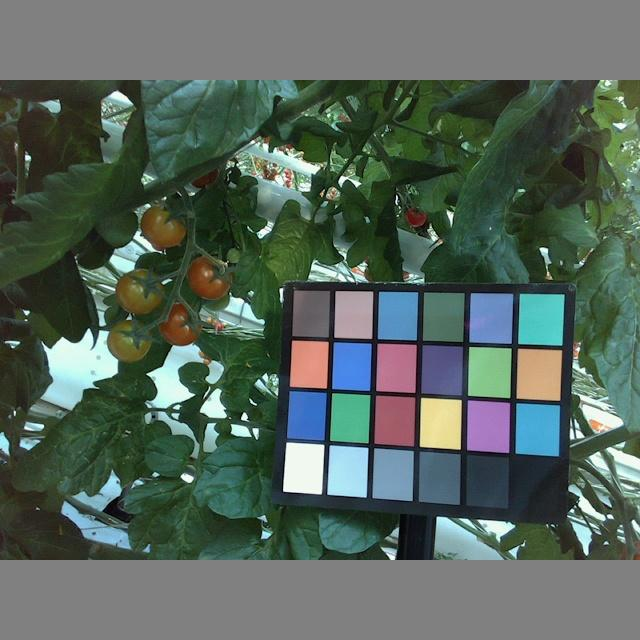pink: (115, 268, 164, 315), (186, 254, 232, 301), (156, 302, 202, 347), (139, 203, 186, 247), (105, 320, 152, 361)
